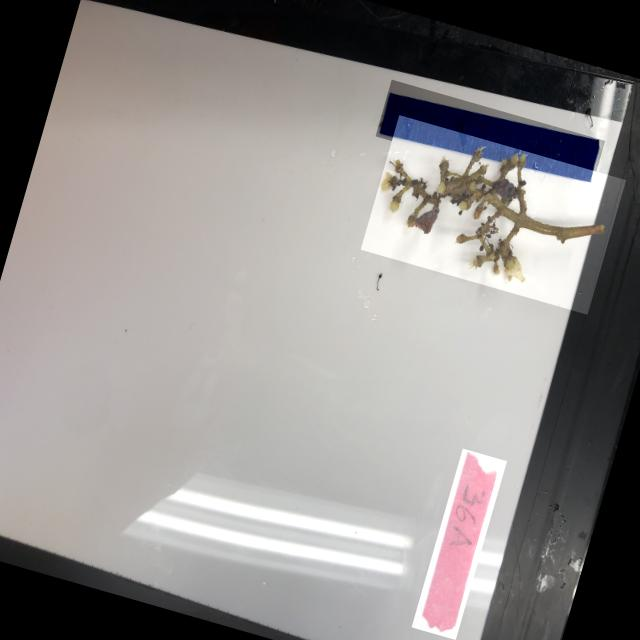index: (410, 448, 505, 640)
measure_label: (360, 114, 624, 314), (374, 79, 604, 197)
